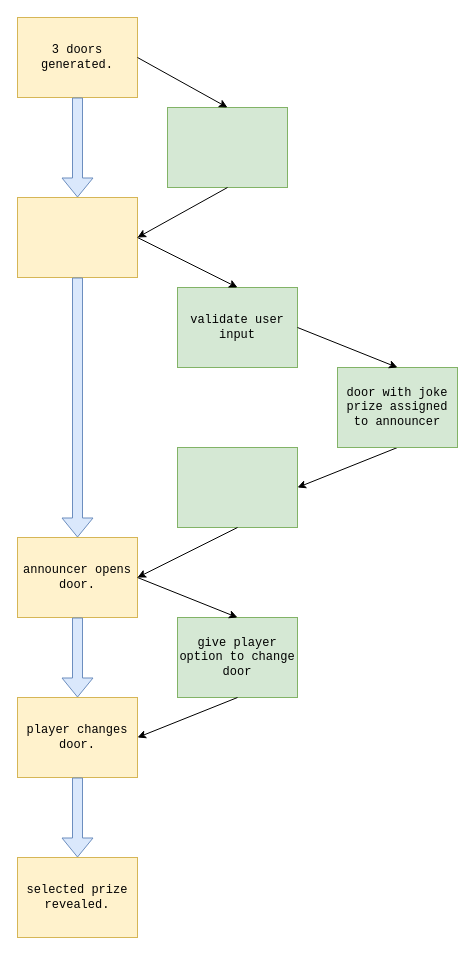
The diagram is 475 pixels wide and 955 high, and some of its shapes have lost their labels. Here are the shapes that lost their labels. From the top down, the box of each, then its label:
(166, 106, 288, 188): prizes assigned to doors.
(16, 196, 138, 278): player selects door.
(176, 446, 298, 528): return joke door to announcer
